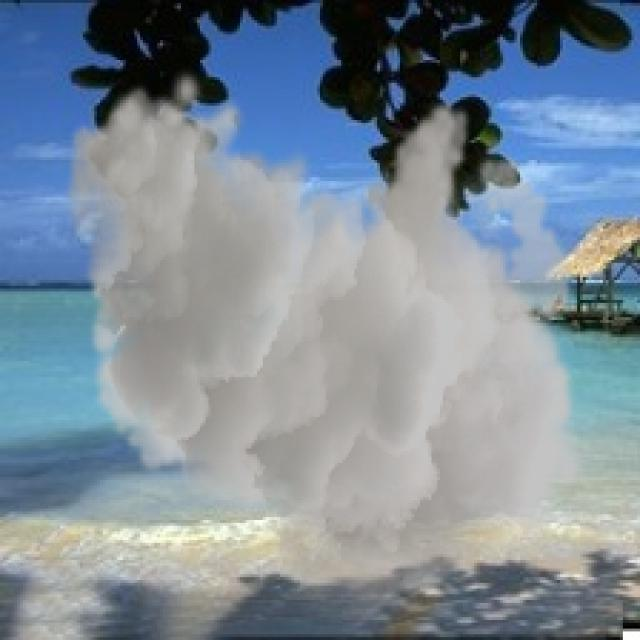Smoke: (62, 65, 588, 618)
